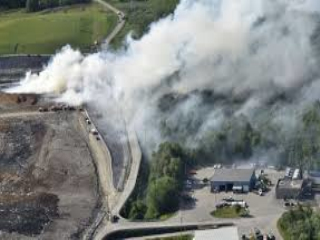smoke: (5, 44, 187, 117)
